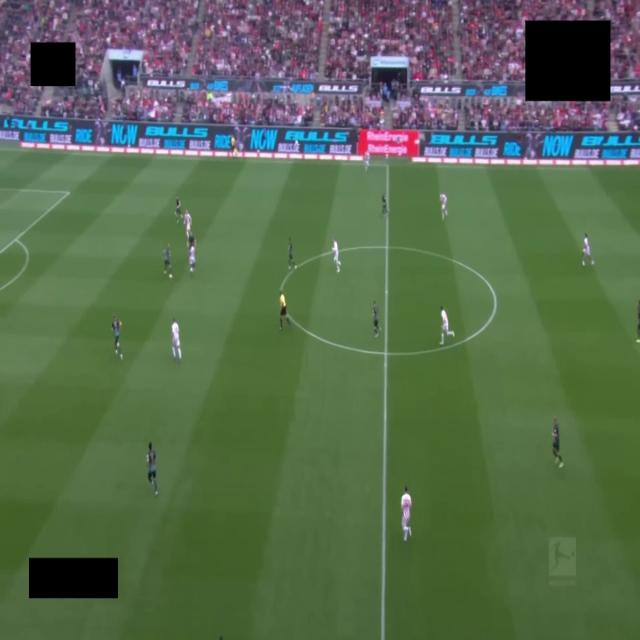player: (147, 442, 158, 495), (401, 487, 411, 542), (552, 418, 563, 467), (440, 307, 454, 344), (112, 315, 122, 359), (171, 319, 181, 360), (582, 234, 594, 265), (163, 244, 172, 278), (332, 239, 340, 272), (288, 238, 296, 270), (372, 301, 379, 337), (184, 210, 191, 238), (440, 193, 447, 220), (189, 244, 195, 275), (636, 300, 639, 343), (187, 234, 196, 248), (176, 198, 181, 223), (382, 194, 387, 215), (364, 152, 369, 170)
referee: (279, 290, 290, 330)
